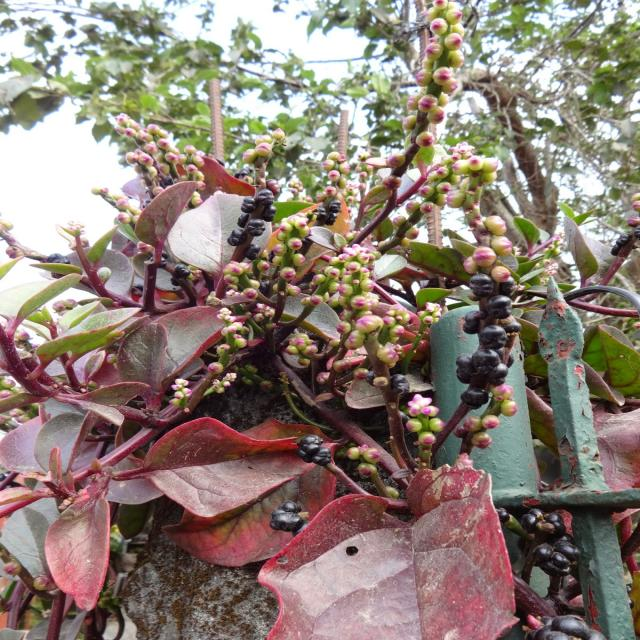Medicinal-Basale: (68, 8, 575, 512)
